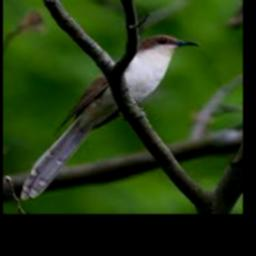Cuckoo: (20, 35, 200, 200)
